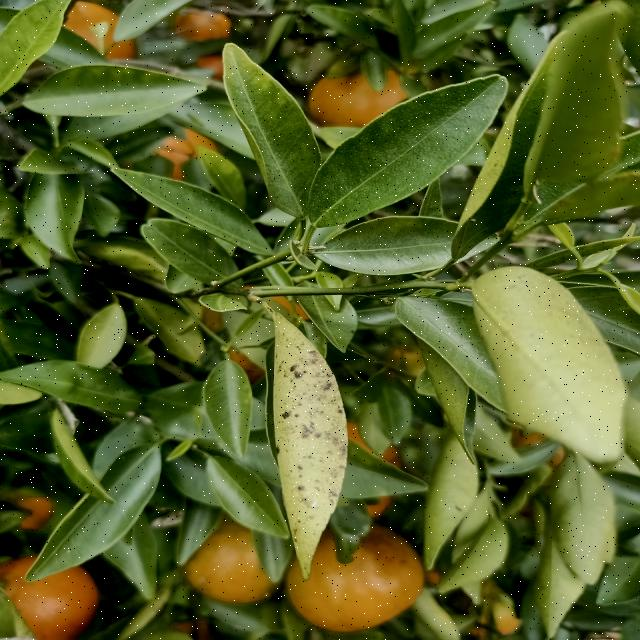melanose: (261, 329, 377, 568)
